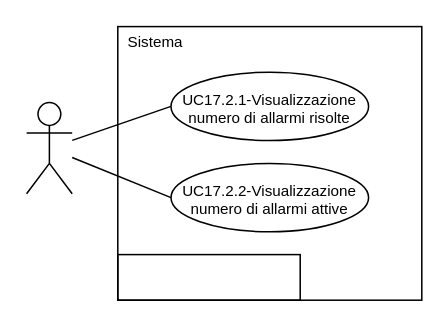
The diagram is 448 pixels wide and 327 high, and some of its shapes have lost their labels. Here are the shapes that lost their labels. From the top down, the centre of each, then its label:
At [48,147]: "Utente".
At [208,276]: "UC17.2-Visualizzazione statistiche allarmi".
